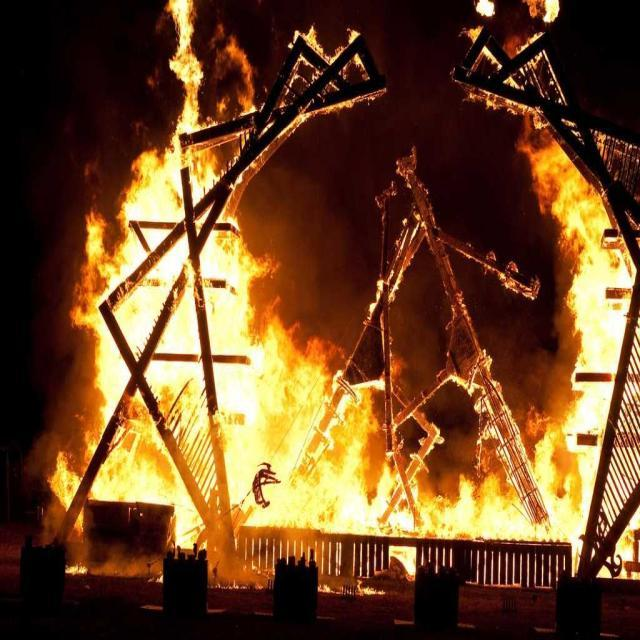Fire: (95, 114, 241, 502), (531, 141, 640, 608), (260, 346, 440, 558)
